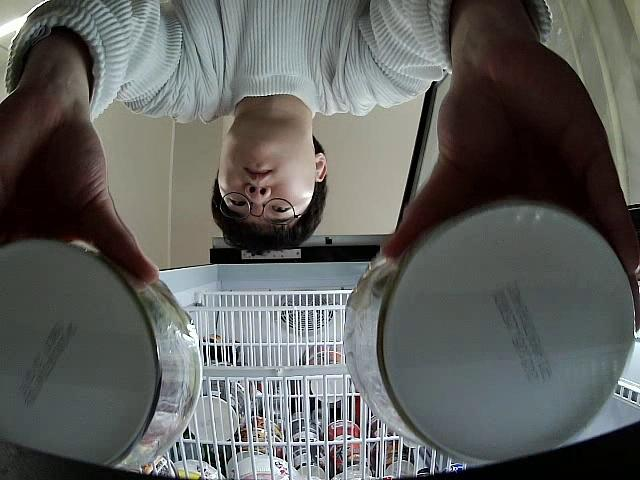00_hand: (383, 64, 640, 333), (0, 93, 161, 289)
03_chapagetti_L: (346, 200, 637, 465), (0, 239, 203, 476)
